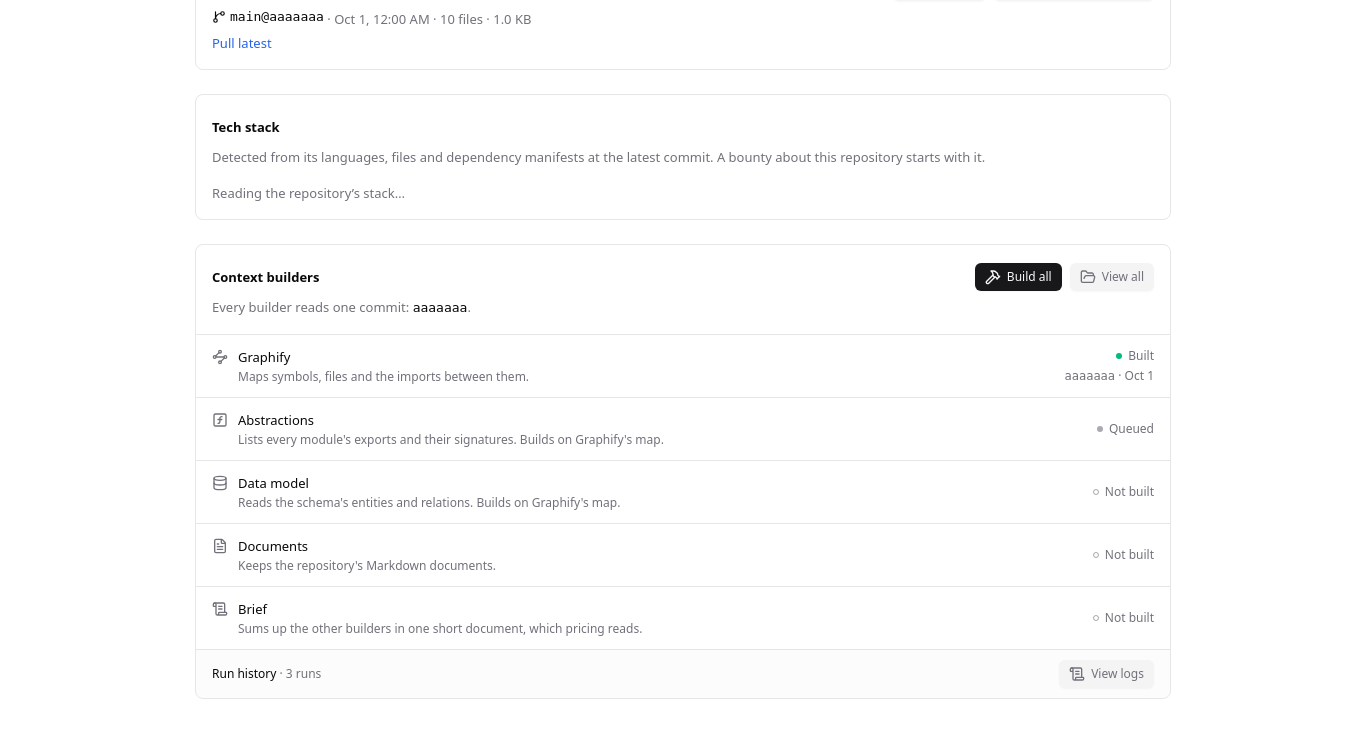
Logs lists every run down the side; each opens its own log
(page scrolled)
Expected: the text "Run history · 3 runs" is shown, [212, 666, 321, 682]
Click the button "View logs" at point(1107, 674), box [1059, 660, 1154, 688]
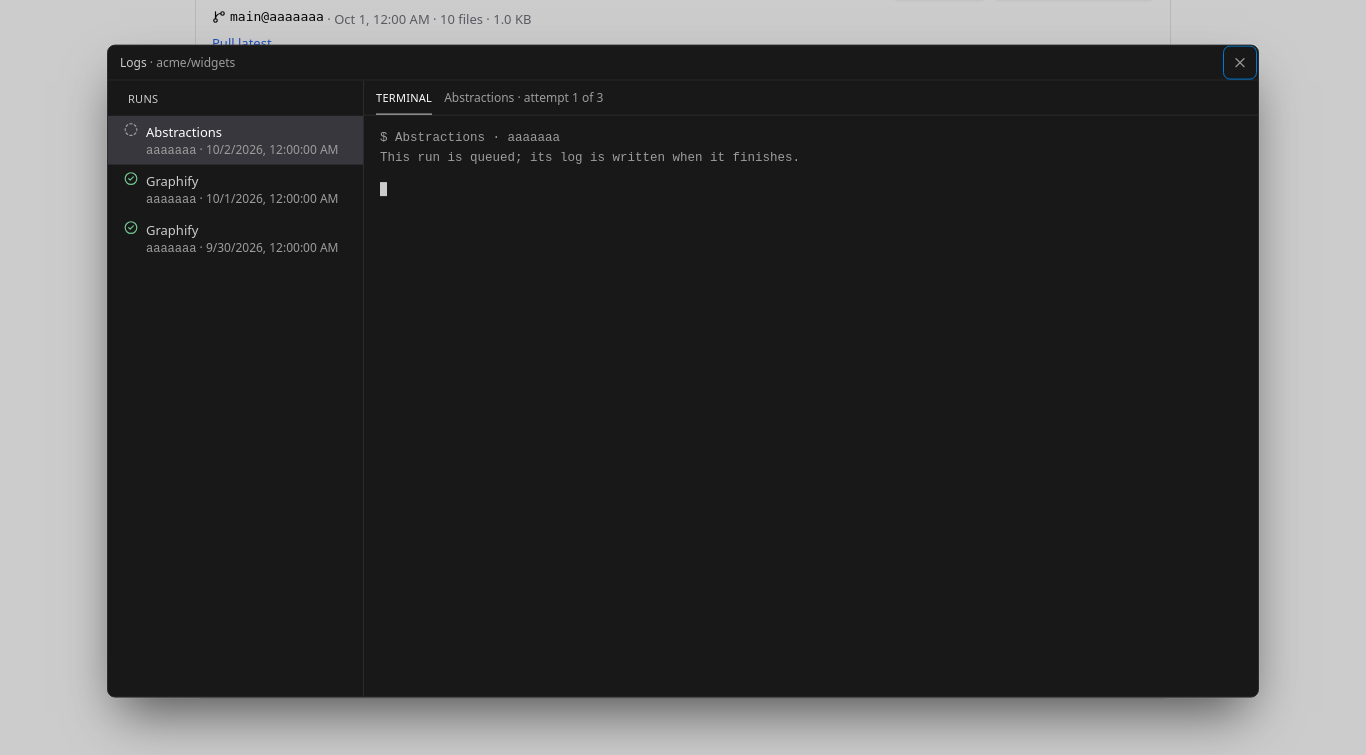
Expected: the text "This run is queued; its log is written when it finishes." is shown, [380, 151, 800, 165]
Click the button "Graphify aaaaaaa · 10/1/2026, 12:00:00 AM" at point(236, 189), box [108, 165, 363, 214]
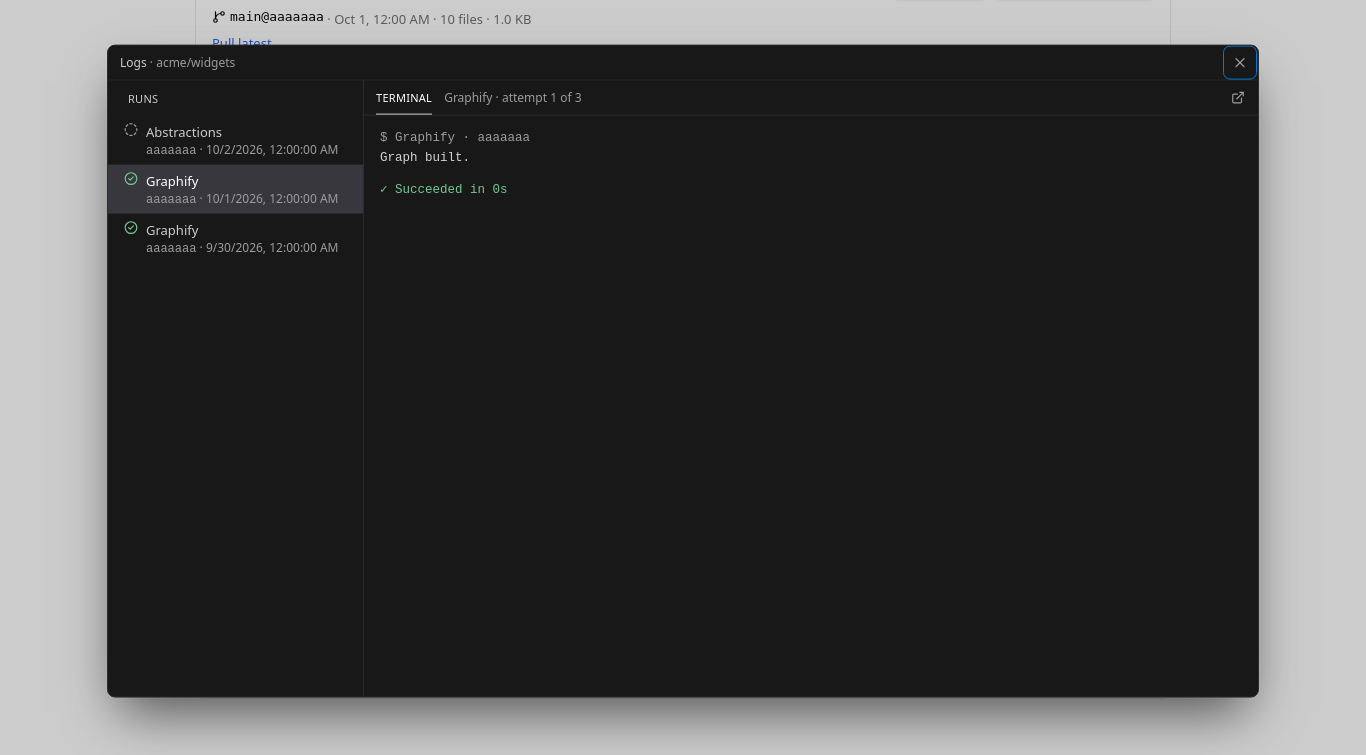
Expected: the text "Graph built." is shown, [380, 151, 470, 165]
Click the button "Graphify aaaaaaa · 9/30/2026, 12:00:00 AM" at point(236, 238), box [108, 214, 363, 263]
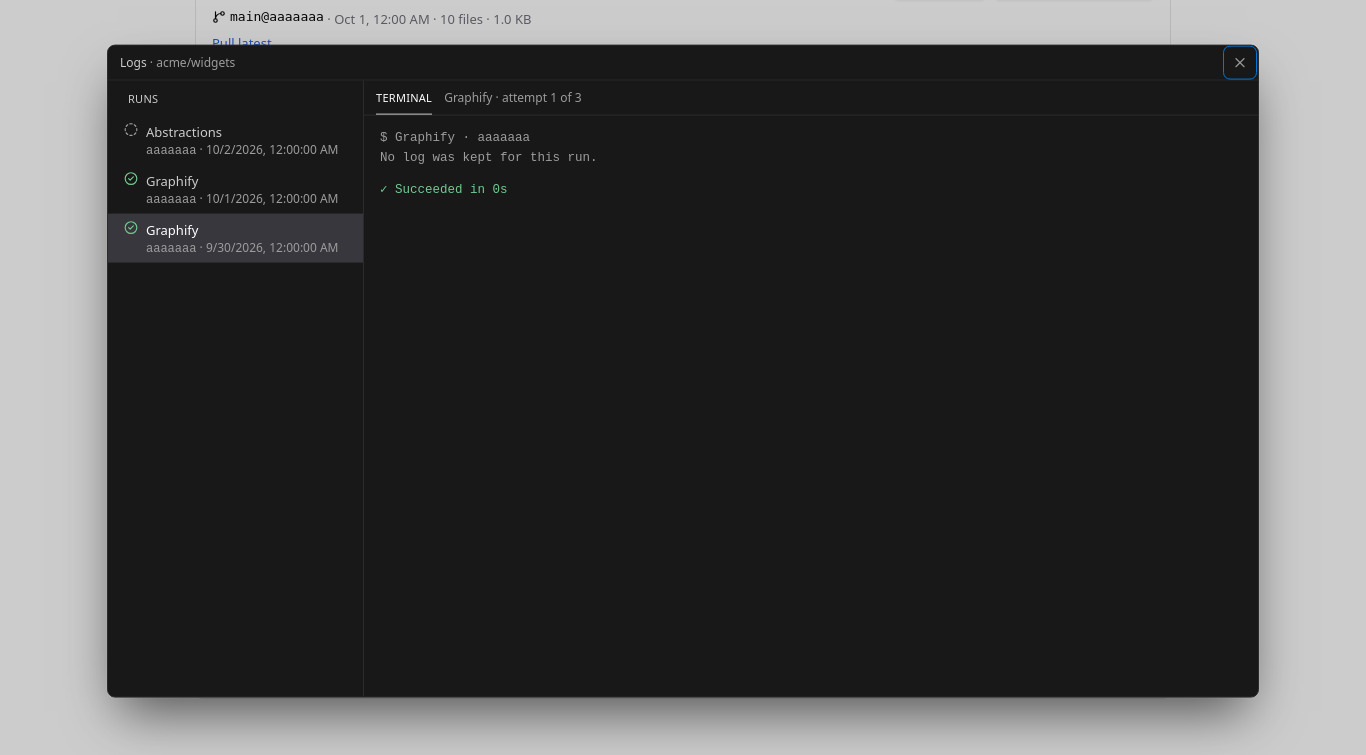
Expected: the text "No log was kept for this run." is shown, [380, 151, 598, 165]
